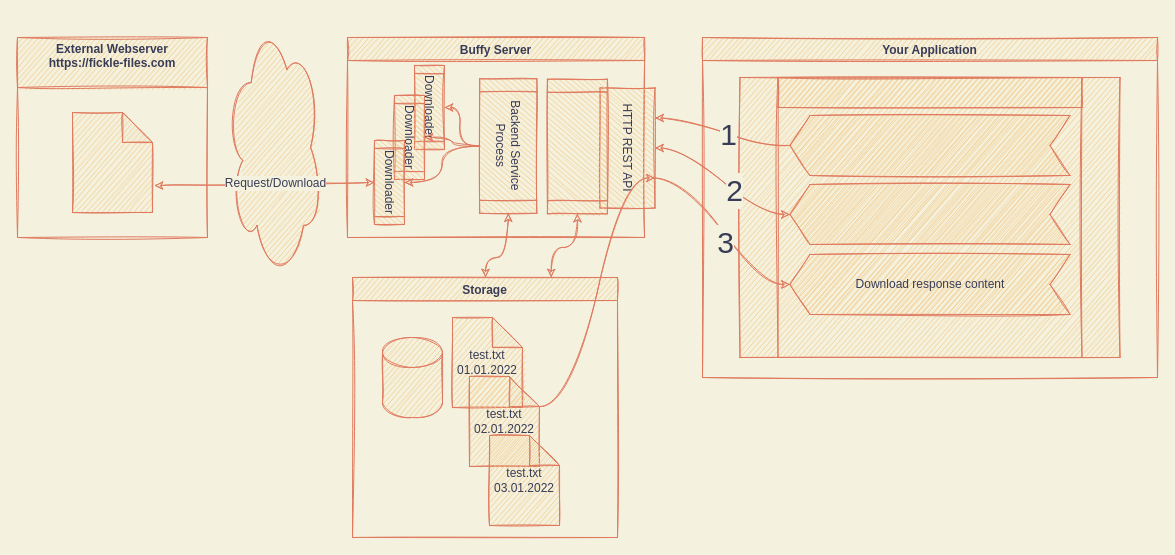
Some shapes in this 1175 by 555 pixel diagram are drawn without their labels. The centre of each missing label's shape, as x and y in pixels:
"API Process" belongs at pixel 577 146.
"Buffy Client Library" belongs at pixel 929 92.
"redis" belongs at pixel 412 377.
"request file: https://fickle-files.com/text.txt" belongs at pixel 929 145.
"text.txt" belongs at pixel 112 162.
"Wait for response content available" belongs at pixel 929 214.
